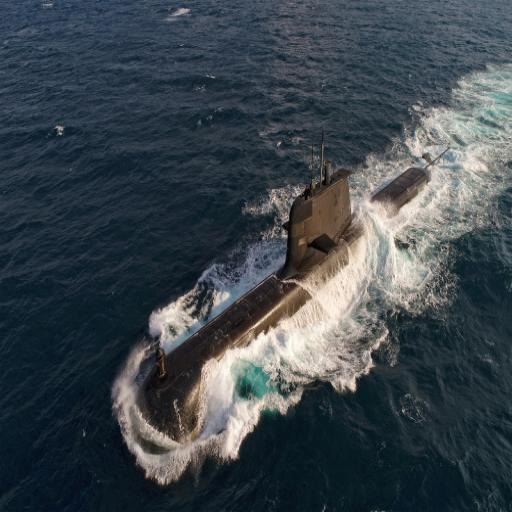submarine: (158, 132, 432, 455)
